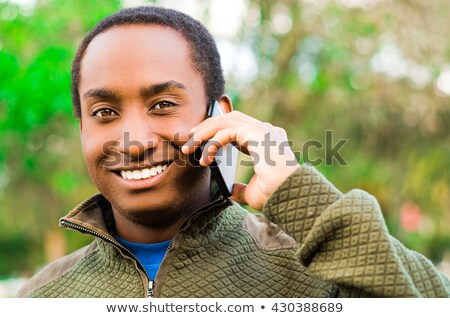phone: (202, 91, 254, 197)
talk: (86, 69, 285, 219)
